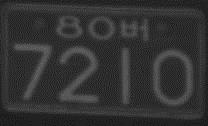0: (151, 47, 193, 106), (87, 14, 116, 41)
1: (108, 45, 142, 106)
2: (57, 44, 100, 103)
7: (13, 41, 53, 101)
8: (55, 13, 83, 39)
버: (119, 16, 149, 43)
